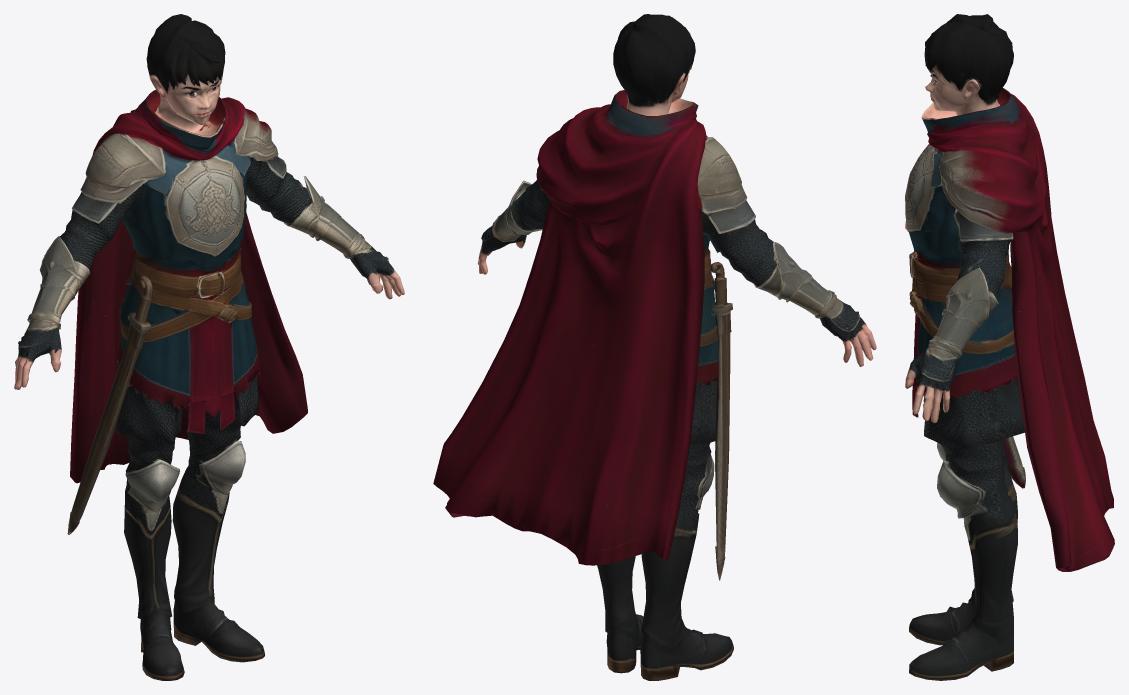
The model's file is paladin_1.glb.
The picture shows the model from 3 angles, left to right: view 1: azimuth 30°, elevation 25°; view 2: azimuth 150°, elevation 25°; view 3: azimuth 270°, elevation 25°; orthographic projection. The views are drawn at different scales.
Bounding box in the file's own units: 0.6099 × 0.9512 × 0.2837.
Materials: 1 (1 with a texture image).
